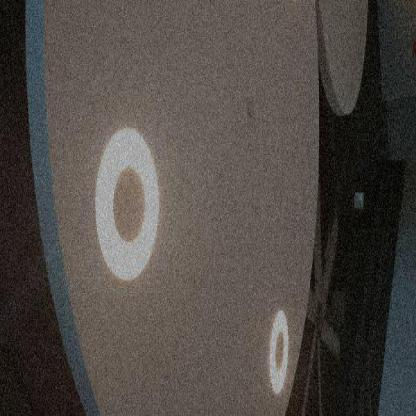light_on: (83, 107, 166, 312), (260, 290, 296, 403)
